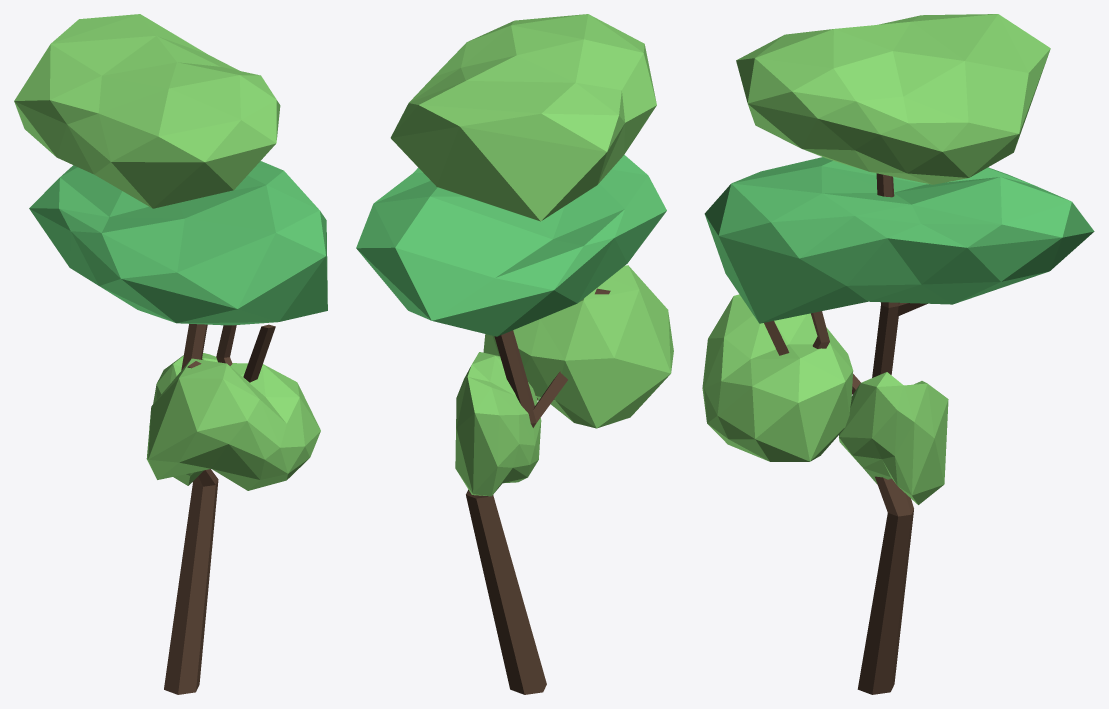
The model's file is Tree_Type1_5.fbx.
3 renders of one model, left to right at view 1: azimuth 30°, elevation 25°; view 2: azimuth 150°, elevation 25°; view 3: azimuth 270°, elevation 25°, orthographic. The views are drawn at different scales.
Parts seen in each view (by area): view 1: Tree_Type1_5; view 2: Tree_Type1_5; view 3: Tree_Type1_5.
Part boxes in pixels (x1=…): Tree_Type1_5: x1=14, y1=14, x2=327, y2=694; Tree_Type1_5: x1=356, y1=14, x2=673, y2=694; Tree_Type1_5: x1=702, y1=14, x2=1094, y2=694.
Size of the model in its own units: 270 by 697 by 386.
